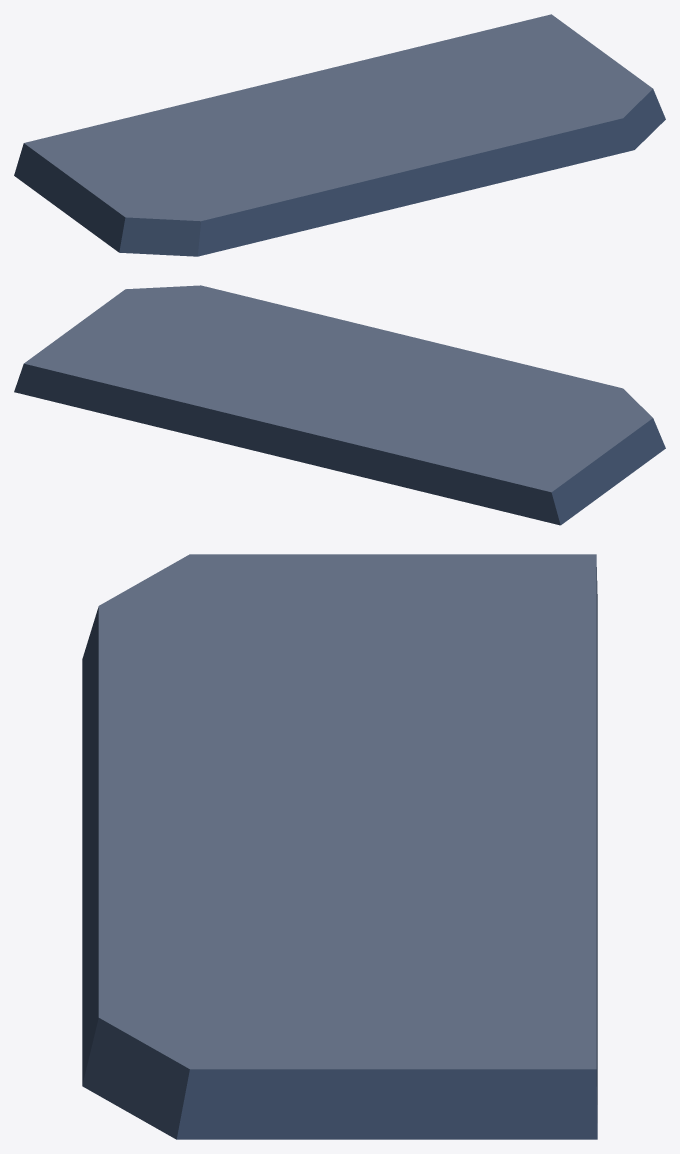
File: Roof.fbx
3 renders of one model, top to bottom at view 1: azimuth 30°, elevation 25°; view 2: azimuth 150°, elevation 25°; view 3: azimuth 270°, elevation 25°, orthographic. The views are drawn at different scales.
Parts seen in each view (by area): view 1: Roof; view 2: Roof; view 3: Roof.
Part boxes in pixels (bbox=[...]): Roof: bbox=[14, 14, 665, 256]; Roof: bbox=[14, 285, 665, 525]; Roof: bbox=[82, 554, 597, 1139].
Size of the model in its own units: 854 by 45.67 by 349.
